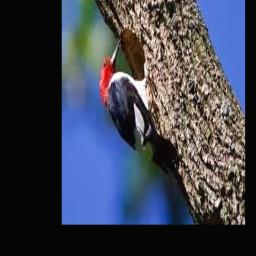Woodpecker: (100, 39, 179, 185)
